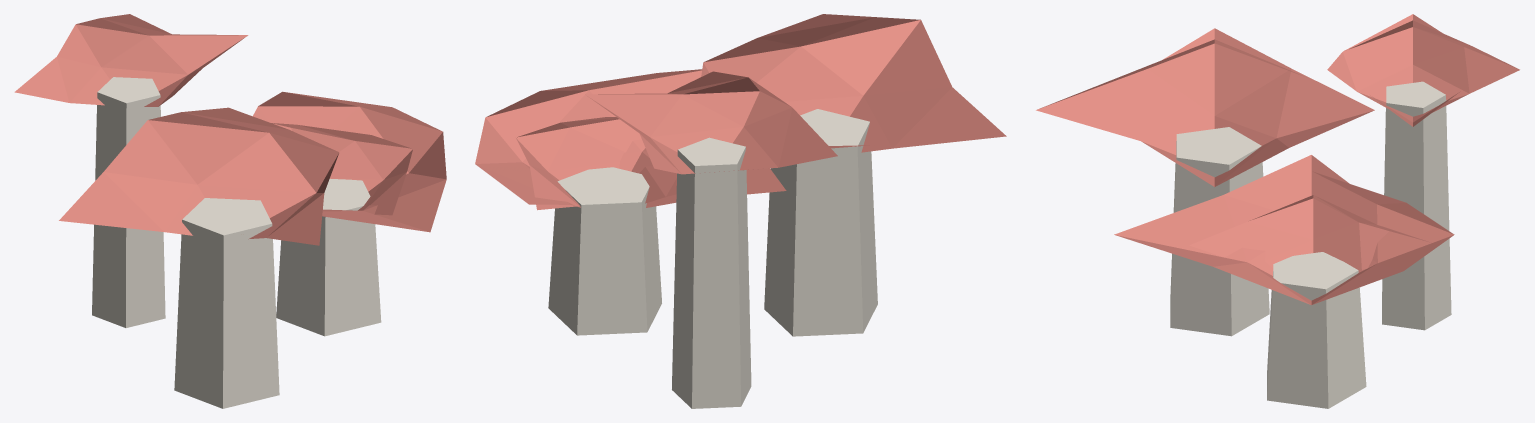
File: mushroom_v06.glb
3 renders of one model, left to right at view 1: azimuth 30°, elevation 25°; view 2: azimuth 150°, elevation 25°; view 3: azimuth 270°, elevation 25°, orthographic. The views are drawn at different scales.
Parts seen in each view (by area): view 1: lod0; view 2: lod0; view 3: lod0.
Part boxes in pixels (x1,y1,x2,y2): lod0: (14, 14, 446, 408); lod0: (475, 14, 1006, 408); lod0: (1036, 14, 1519, 408).
Size of what is drawn, in the model's own units: 0.6928 by 0.455 by 0.6791.
